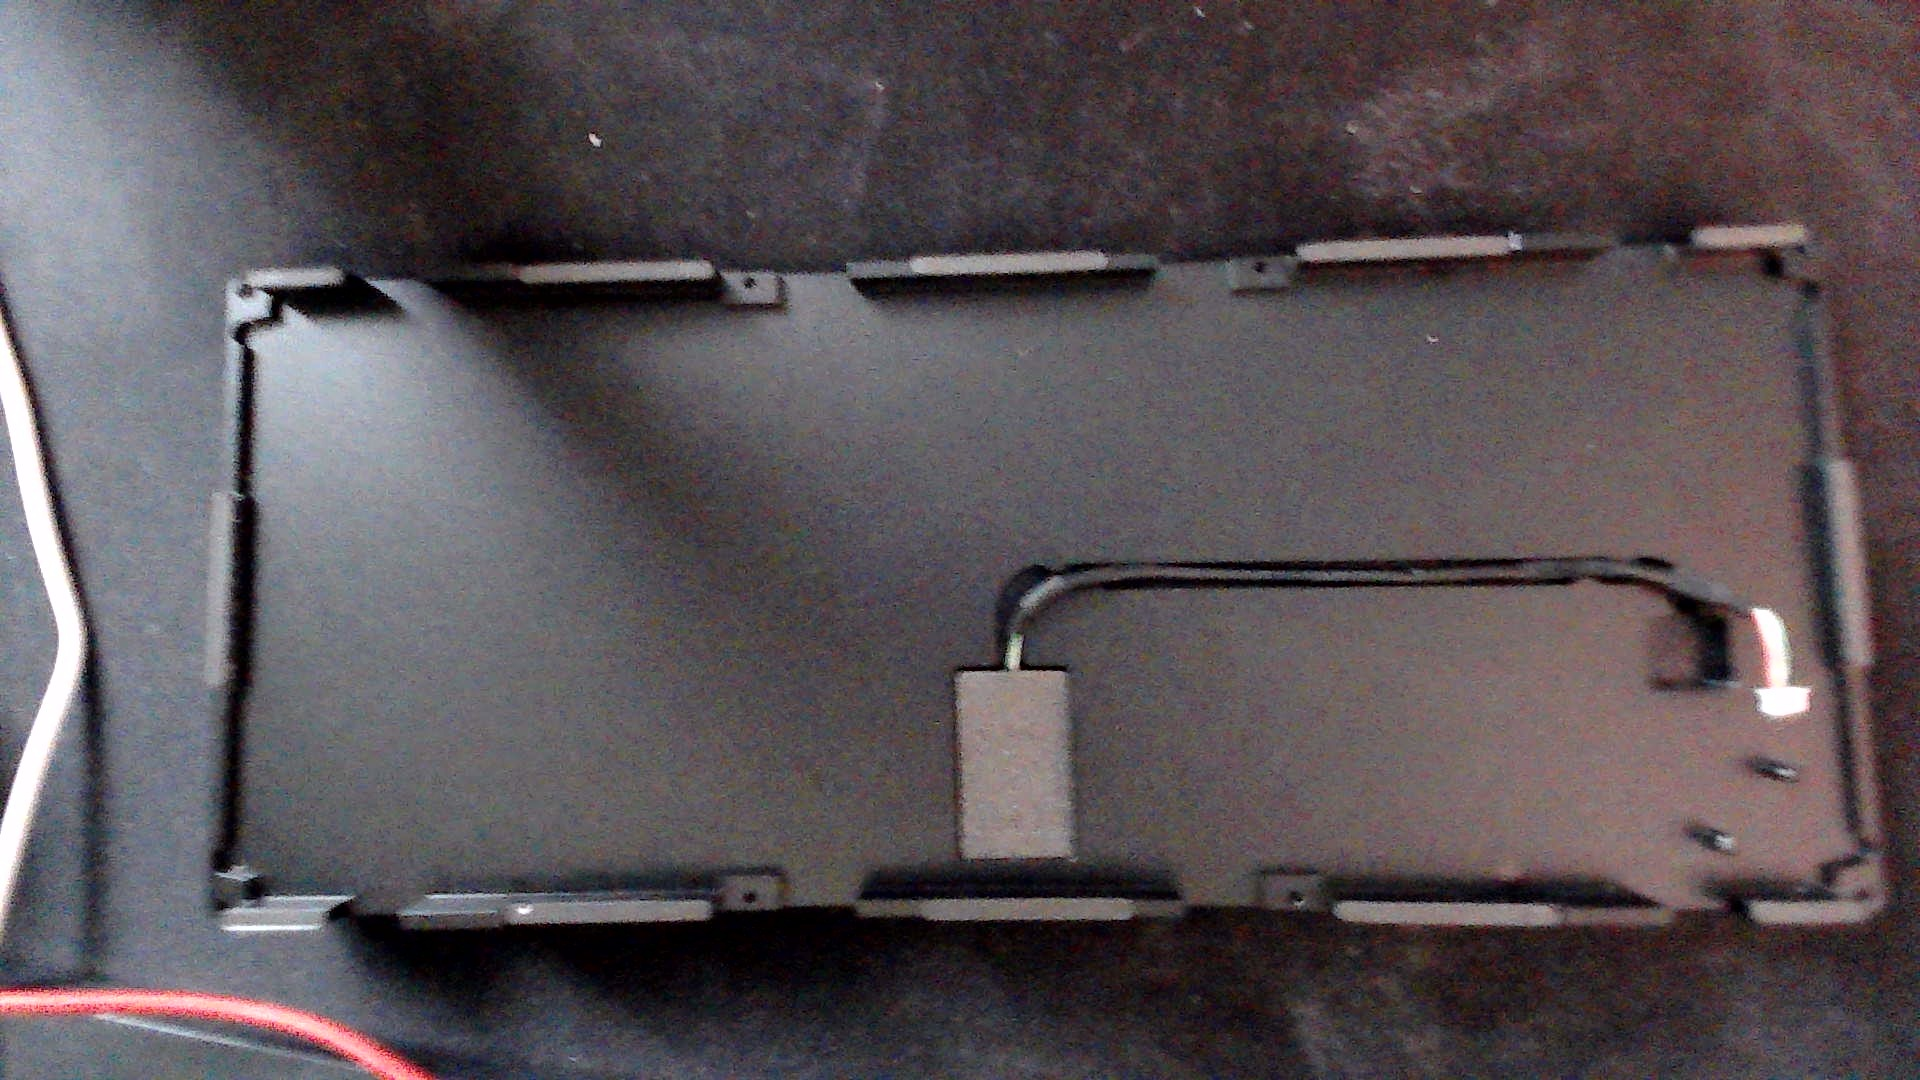case: (166, 181, 1903, 963)
